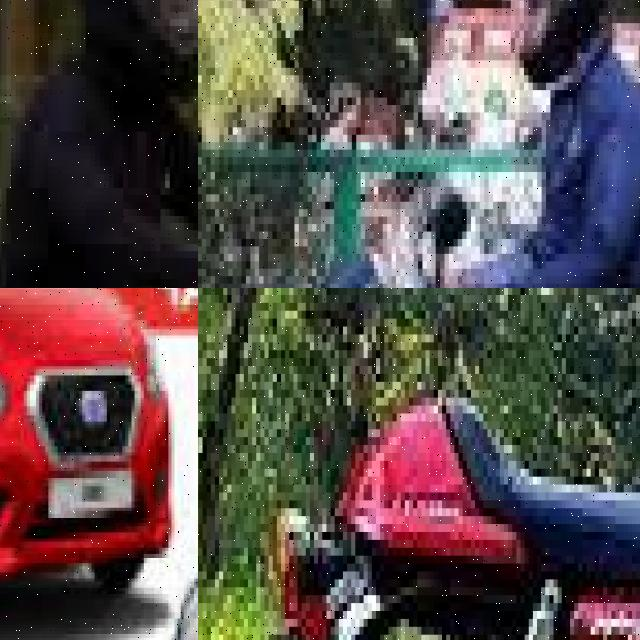bike: (239, 288, 640, 640), (0, 159, 198, 288), (198, 231, 640, 288)
car: (0, 288, 193, 640), (128, 489, 198, 640)
